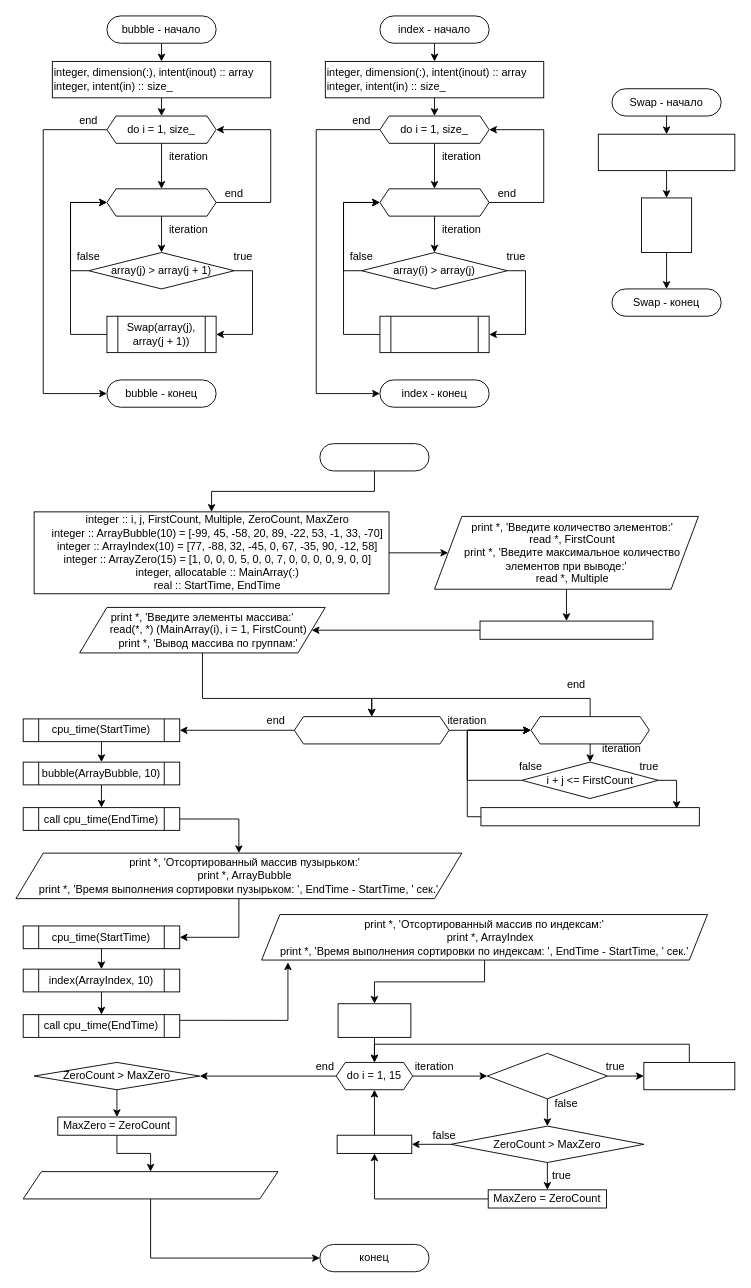
Image size: 751x1288. Some labels were removed from this diagram. The centre of each missing label's shape, as x and y in pixels:
allocate(MainArray(FirstCount)): pixel 566 629
ArrayZero(i) == 0: pixel 546 1075
do i = 1, FirstCount, Multiple: pixel 371 730
do j = 0, Multiple - 1: pixel 589 730
do j = 1, size_ - 1: pixel 161 202
do j = i + 1, size_: pixel 434 202
integer, intent(inout) :: a, b integer :: temp: pixel 666 152
print *, 'Максимальная последовательность из нулей составляет', MaxZero: pixel 150 1185
Swap(array(i), array(j): pixel 434 334
temp = a a = b b = temp: pixel 666 225
write(*,'(I5)', advance='no') MainArray(i + j): pixel 589 816
ZeroCount = 0: pixel 374 1143
ZeroCount = 0 MaxZero = 0: pixel 374 1020
ZeroCount = ZeroCount + 1: pixel 689 1076
начало: pixel 374 457
